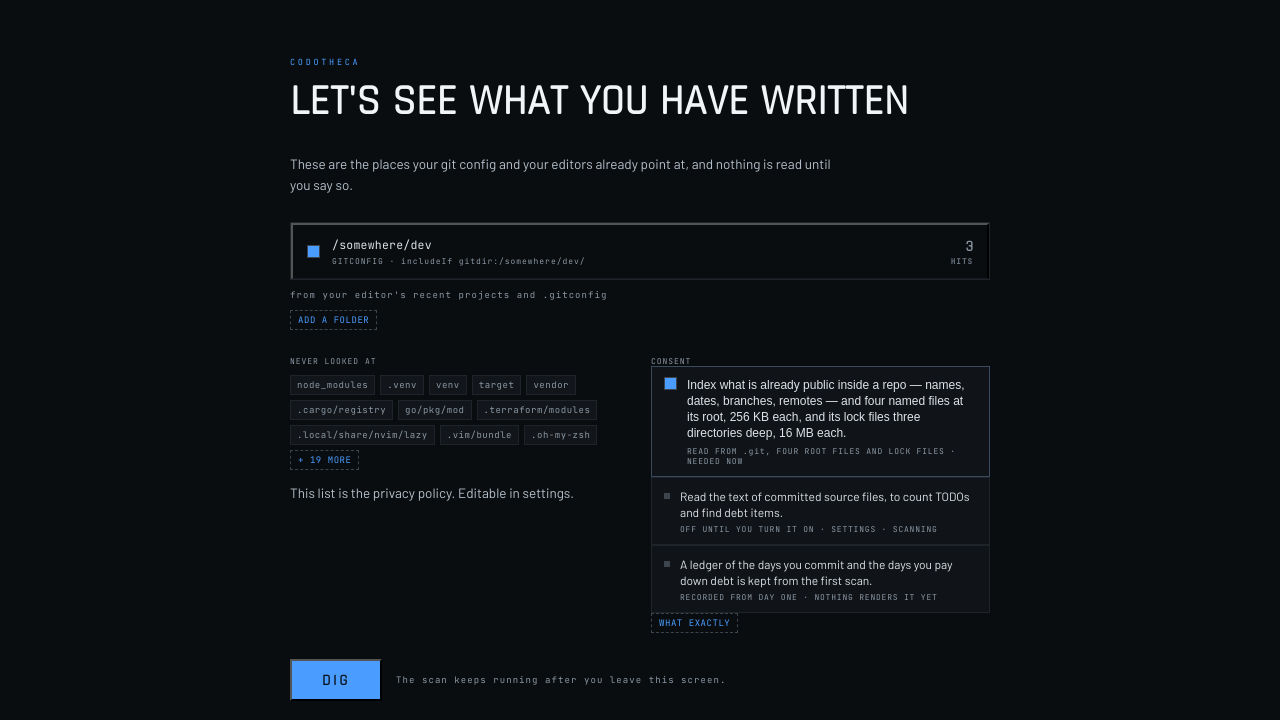
Scenario: discoveries land in batches, not one at a time
Expected: the heading "LET'S SEE WHAT YOU HAVE WRITTEN" is shown, [290,80,990,124]
Click the button "DIG": (336, 680) [290,659,382,701]
Wait 700 ms
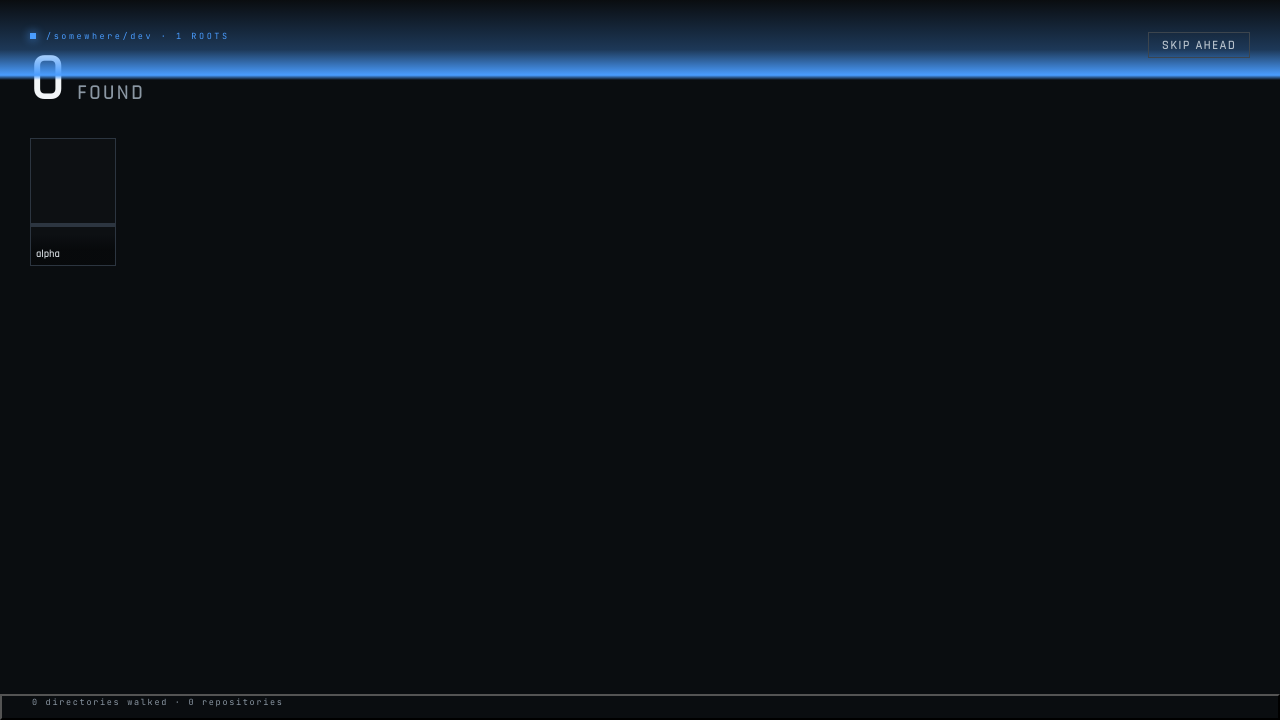
Expected: the button "SKIP AHEAD" is shown, [1148,32,1250,58]
Expected: the text "alpha" is shown, [36,248,60,260]
